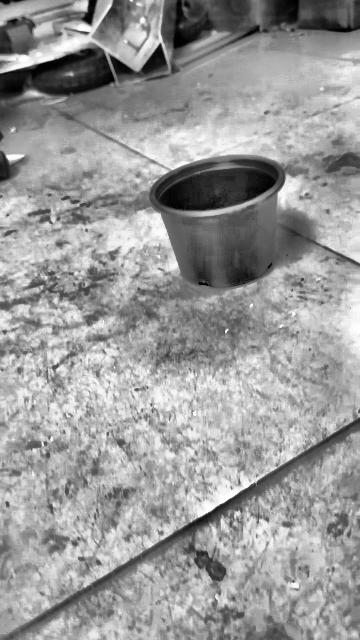pot: (150, 155, 284, 288)
